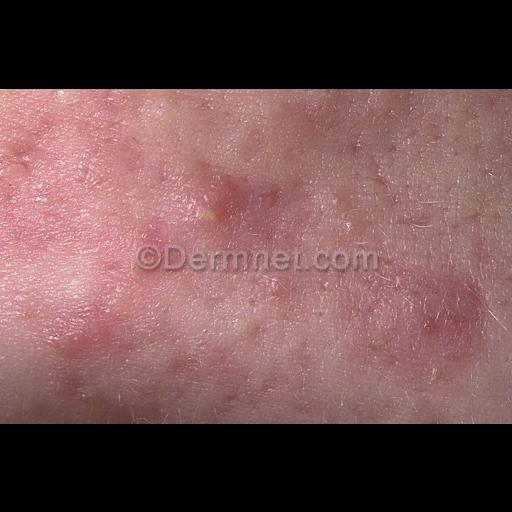Skin_Lesion: (178, 184, 232, 226), (416, 290, 456, 340), (256, 268, 294, 306), (138, 215, 164, 247), (46, 88, 74, 104), (270, 186, 288, 206), (350, 135, 366, 155)
